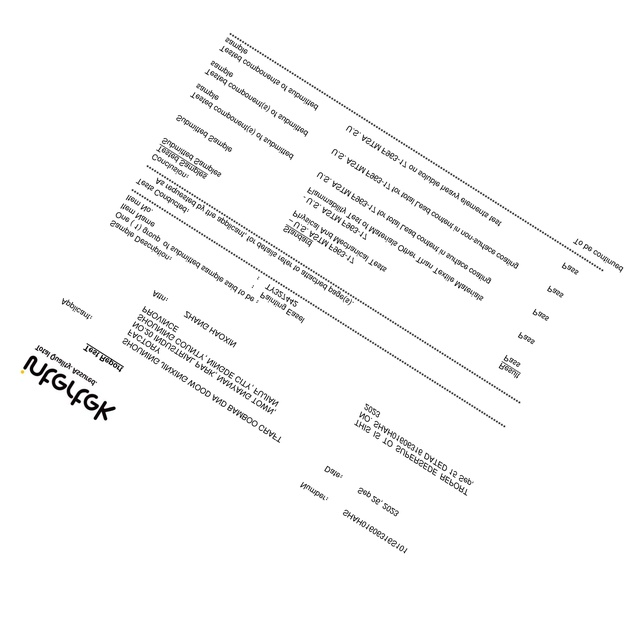intertek: (18, 352, 116, 427)
